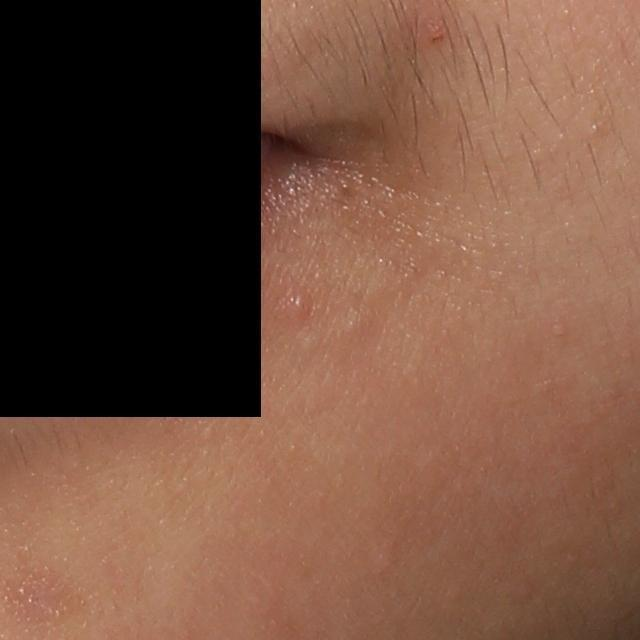papule: (284, 296, 310, 324)
